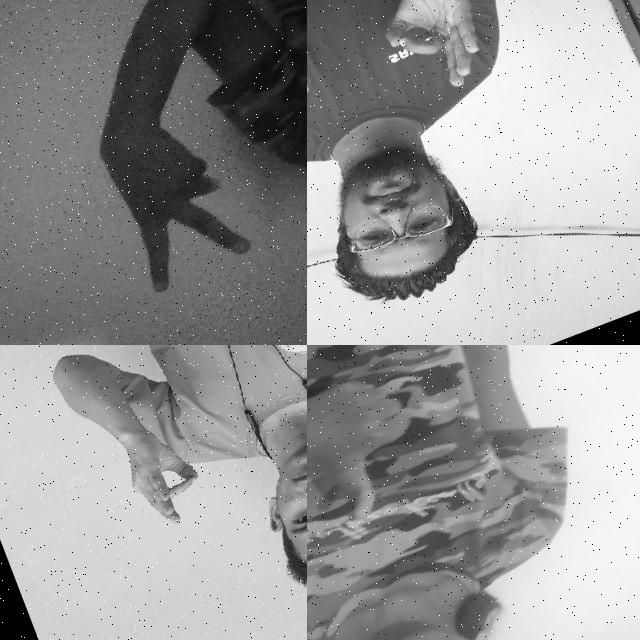Okay: (358, 0, 512, 122), (108, 413, 220, 545), (307, 10, 344, 185)
Reversed Victory: (74, 61, 269, 306)
Thumbs Up: (307, 351, 453, 546)
